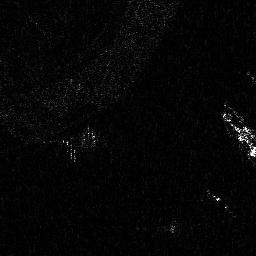ship: (221, 110, 256, 158)
